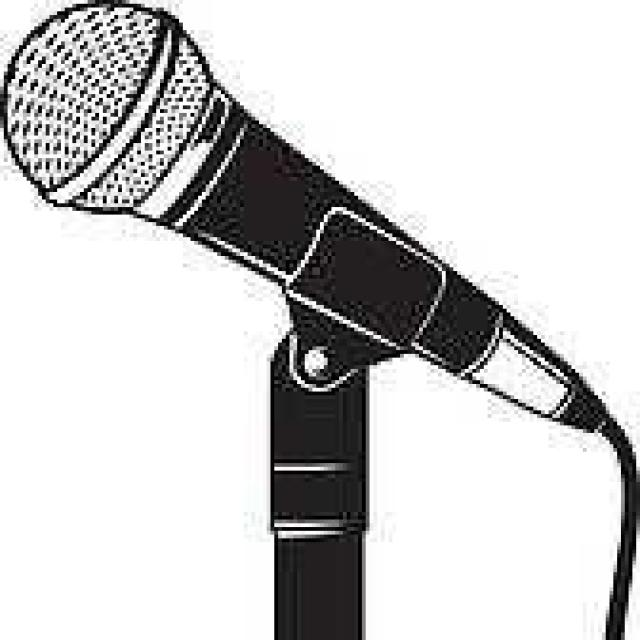microphone: (9, 8, 585, 426)
